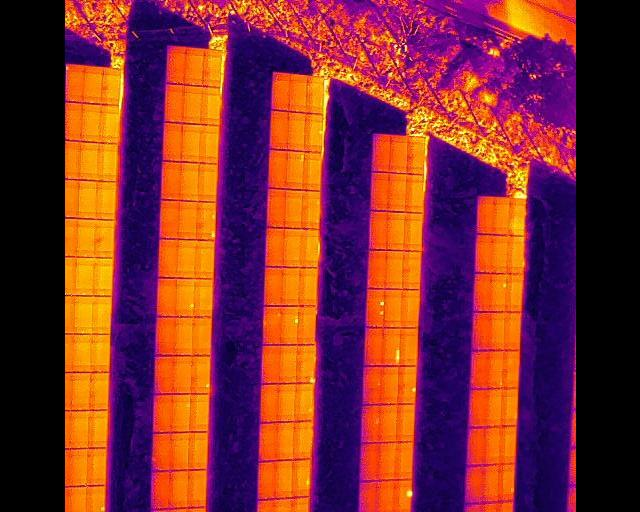Cell: (64, 65, 83, 102), (171, 394, 189, 433), (176, 278, 194, 317), (280, 306, 298, 345), (398, 366, 416, 404), (192, 355, 210, 393), (304, 115, 321, 154), (490, 273, 506, 312), (297, 346, 313, 384), (394, 480, 411, 512)
Cell-Multi: (196, 201, 215, 241), (366, 289, 384, 328), (287, 151, 303, 189), (85, 486, 103, 512)
No-Anomaly: (64, 449, 86, 486), (157, 238, 177, 278), (154, 356, 175, 394), (467, 388, 487, 427), (155, 316, 175, 355), (159, 200, 179, 239), (68, 410, 88, 449), (163, 122, 182, 163), (86, 448, 106, 486), (91, 296, 111, 334), (95, 181, 115, 219), (176, 238, 195, 278), (189, 394, 209, 432), (71, 334, 91, 372), (292, 420, 311, 459), (81, 103, 100, 142), (359, 442, 378, 481), (385, 250, 404, 289), (93, 219, 112, 258), (193, 278, 212, 317), (151, 471, 170, 510), (166, 47, 186, 84), (184, 48, 204, 85), (362, 366, 381, 404), (379, 405, 398, 443), (387, 174, 406, 212), (399, 327, 418, 365), (94, 258, 113, 296), (464, 465, 483, 503), (470, 312, 489, 350), (97, 143, 116, 181), (183, 85, 202, 123), (188, 432, 207, 470), (69, 372, 88, 410), (74, 258, 93, 296), (282, 229, 301, 267), (100, 105, 119, 143), (165, 83, 183, 123), (169, 469, 187, 509), (264, 227, 282, 267), (88, 373, 107, 410), (161, 163, 180, 200), (297, 306, 315, 345), (361, 405, 379, 444), (402, 250, 420, 289), (157, 278, 175, 317), (182, 124, 200, 163), (198, 163, 216, 202), (266, 189, 284, 228), (269, 149, 287, 188), (284, 189, 302, 228), (505, 273, 523, 312), (152, 394, 170, 433), (364, 328, 382, 366), (369, 172, 387, 210), (384, 289, 402, 327), (385, 212, 403, 250), (404, 213, 422, 251), (466, 427, 484, 465), (470, 350, 488, 388), (170, 432, 188, 470), (175, 317, 193, 355), (180, 163, 198, 201), (188, 469, 206, 507), (195, 240, 213, 278), (74, 296, 92, 334), (257, 461, 275, 499), (264, 267, 282, 305), (271, 73, 289, 111), (77, 181, 95, 219), (277, 383, 295, 421), (152, 433, 170, 471), (88, 409, 105, 449), (263, 306, 280, 346), (294, 384, 312, 421), (501, 389, 519, 426), (101, 67, 119, 104), (288, 112, 305, 151), (288, 74, 305, 113), (302, 229, 319, 268), (369, 210, 386, 249), (381, 366, 398, 405), (396, 403, 413, 442), (402, 289, 419, 328), (91, 334, 108, 373), (406, 174, 423, 213), (473, 273, 490, 312), (178, 200, 195, 239), (200, 124, 217, 163), (275, 421, 292, 460), (282, 267, 299, 306), (64, 102, 81, 141), (358, 481, 379, 512), (83, 67, 101, 103), (203, 51, 221, 87), (291, 458, 308, 496), (80, 143, 97, 181), (299, 268, 316, 306), (303, 153, 320, 191), (367, 249, 384, 287), (378, 442, 395, 480), (394, 442, 411, 480), (175, 356, 192, 394), (193, 317, 210, 355), (202, 87, 219, 125), (261, 384, 278, 422), (262, 345, 279, 383), (270, 111, 287, 149), (279, 345, 296, 383), (301, 192, 318, 229), (304, 77, 321, 114), (372, 135, 389, 172), (389, 137, 406, 174), (77, 219, 93, 258), (504, 312, 520, 351), (406, 138, 423, 174), (475, 234, 491, 272), (259, 422, 275, 460), (275, 460, 291, 498), (477, 197, 493, 235), (484, 427, 500, 465), (500, 426, 516, 464), (502, 350, 518, 388), (507, 235, 523, 273), (494, 197, 510, 234), (509, 198, 525, 235), (483, 464, 498, 503), (487, 389, 502, 428), (498, 464, 514, 500), (488, 351, 503, 389), (489, 312, 504, 350), (491, 235, 506, 273), (64, 486, 84, 512), (379, 480, 395, 512), (290, 496, 306, 512), (256, 498, 274, 512), (273, 498, 290, 512), (496, 500, 512, 512), (462, 502, 481, 512), (481, 503, 495, 512)
Unclassified: (382, 328, 399, 366)
